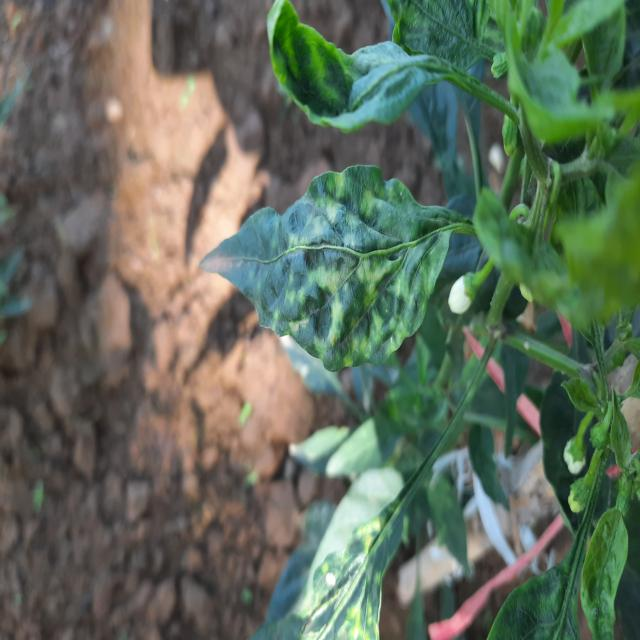thrips: (195, 159, 468, 381), (250, 0, 430, 148)
